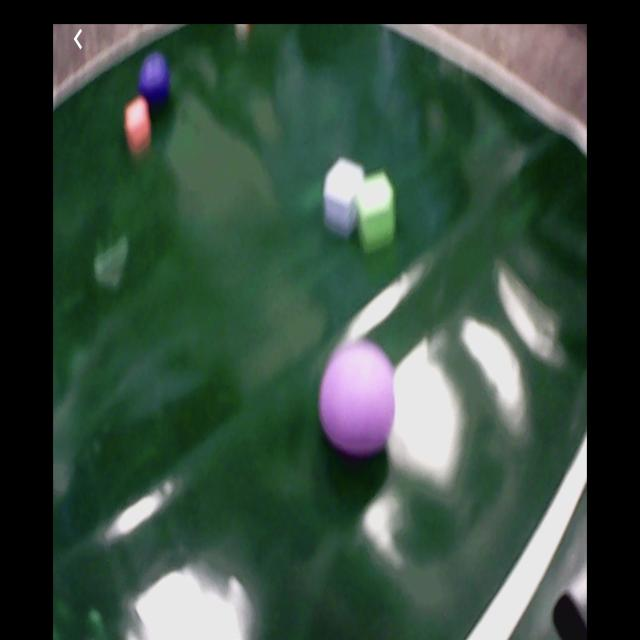ball: (321, 342, 396, 457), (140, 53, 167, 98)
